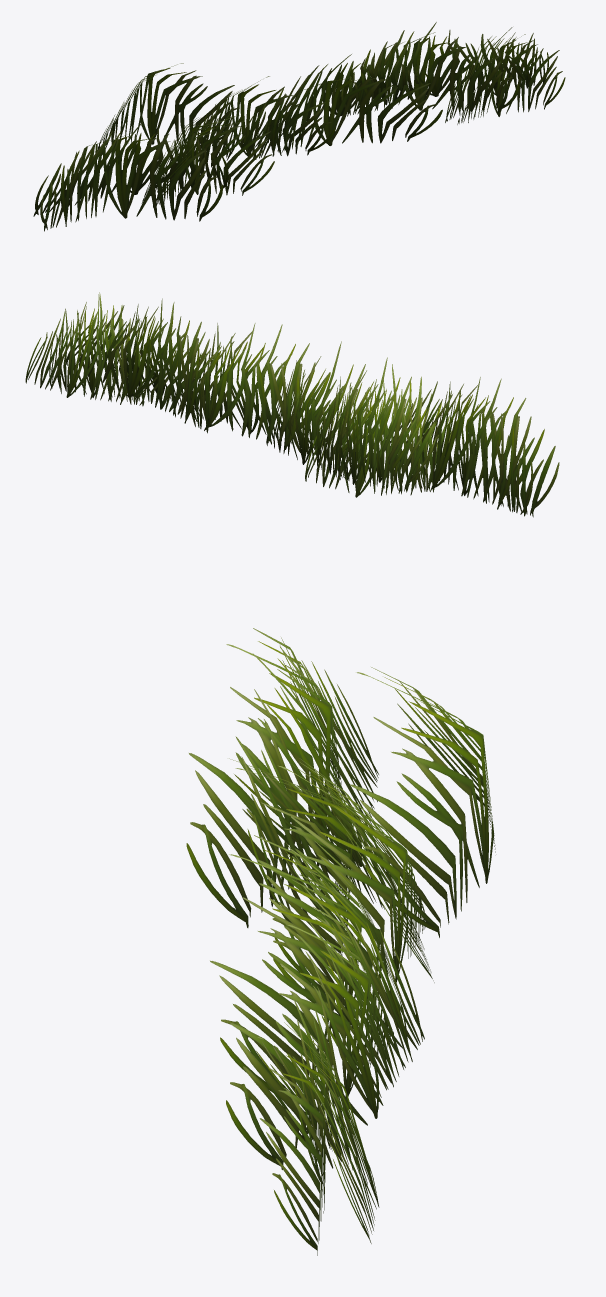
Rendered from grassKit_front_border_u.fbx.
3 views of the same model, one above another, from view 1: azimuth 30°, elevation 25°; view 2: azimuth 150°, elevation 25°; view 3: azimuth 270°, elevation 25° (orthographic). The views are drawn at different scales.
Visible parts, largest first — view 1: grassKit_front_border_u; view 2: grassKit_front_border_u; view 3: grassKit_front_border_u.
Boxes of the visible parts, x1,y1,x2,y2 form: grassKit_front_border_u: (33, 22, 565, 231); grassKit_front_border_u: (25, 292, 559, 517); grassKit_front_border_u: (186, 628, 495, 1255).
Size of the model in its own units: 4.28 by 1.2 by 1.35.
